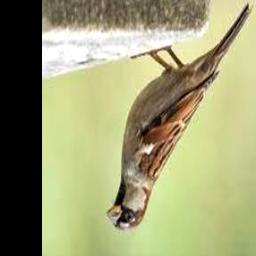Sparrow: (107, 4, 253, 230)
